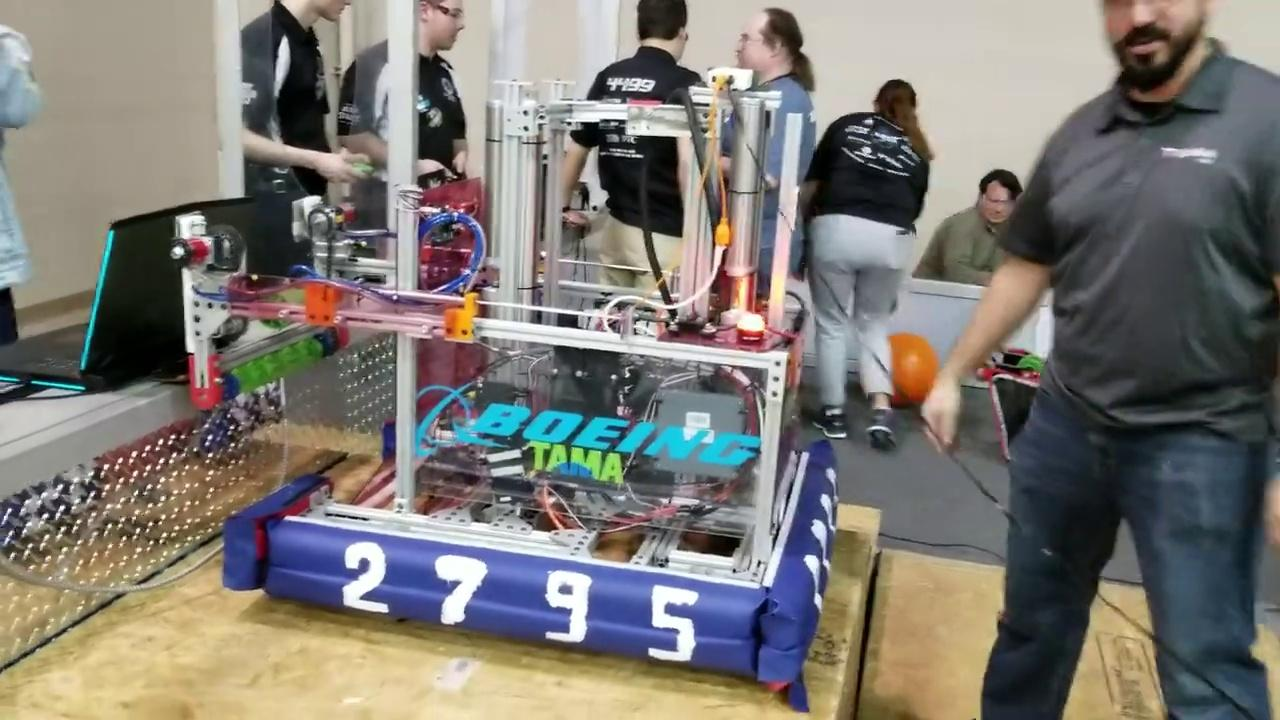robot: (171, 78, 842, 689)
